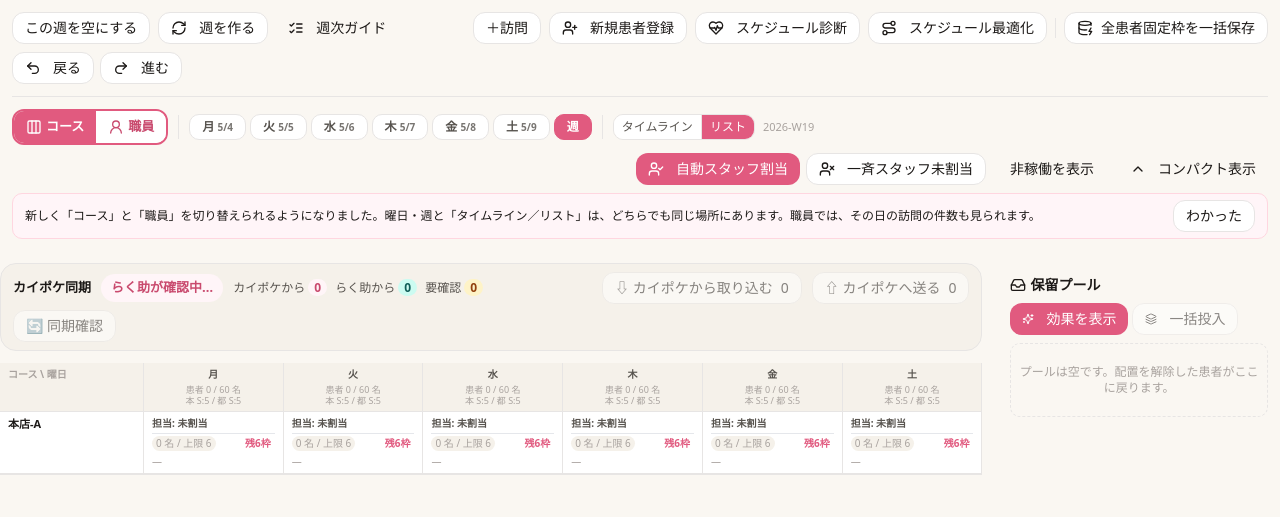
CourseDayTablePanel — 上部折りたたみ (コンパクト表示) › HC-4. 「ツール」で Row1 を一時展開しても畳み状態は維持される
This screenshot has width=1280, height=517.
Step 1. Click the button with test id "schedule-header-collapse-toggle" → x=1193, y=169, box [1118,153,1268,185]
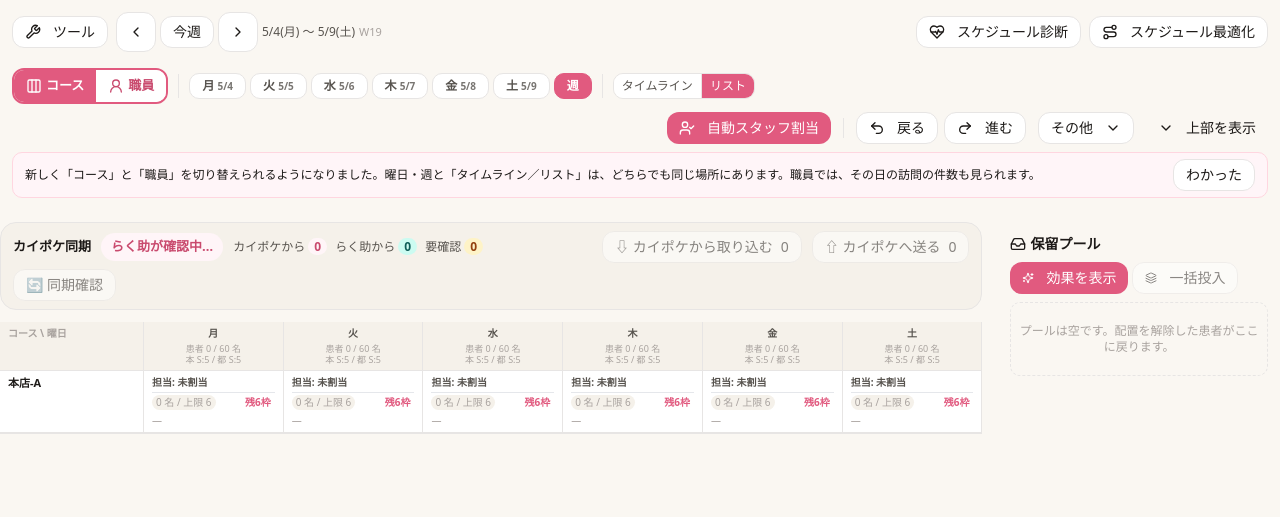
Step 2. Click the button with test id "schedule-compact-tools-button" → x=60, y=32, box [12,16,108,48]
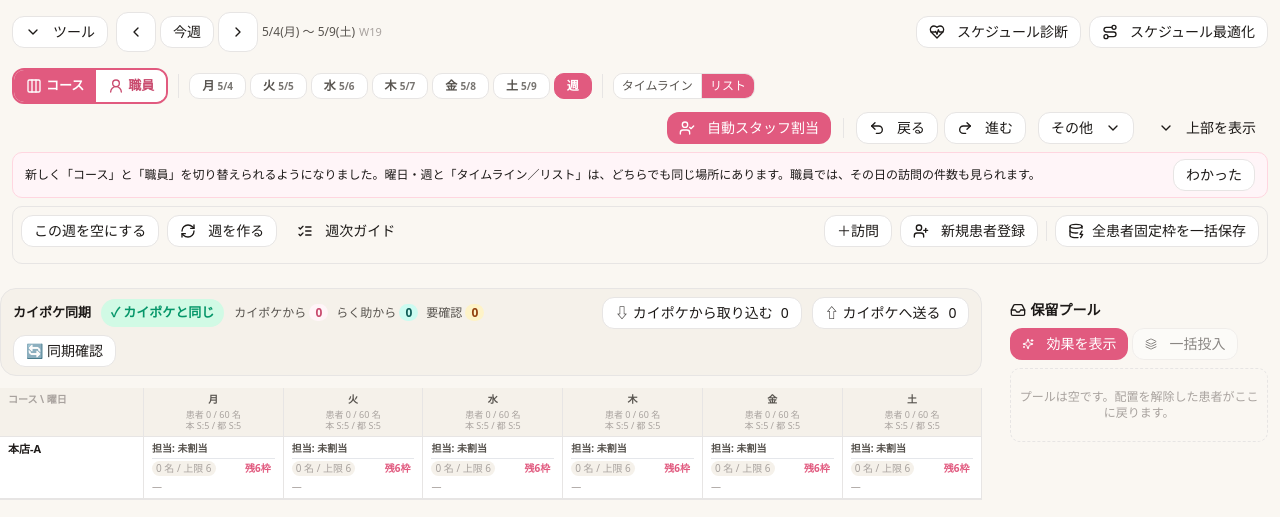
Expected: the element with test id "schedule-compact-tools-popover" is shown, [12,206,1268,264]
Expected: the element with test id "schedule-main-action-toolbar" is shown, [21,215,1259,247]
Expected: the button with test id "generate-week-button" is shown, [167,215,277,247]
